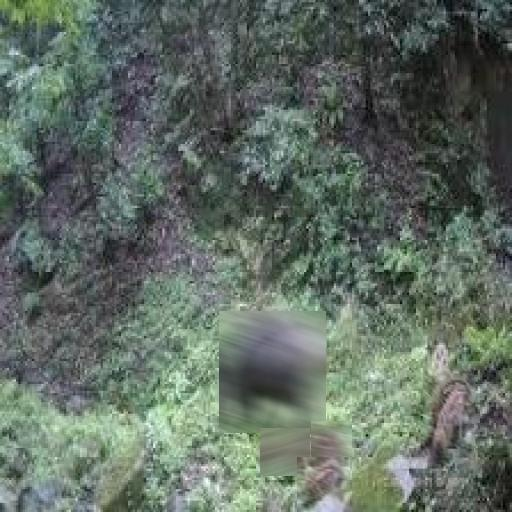Pig: (219, 311, 326, 433), (423, 366, 474, 463), (297, 457, 350, 512), (260, 428, 310, 476), (311, 421, 352, 465)
